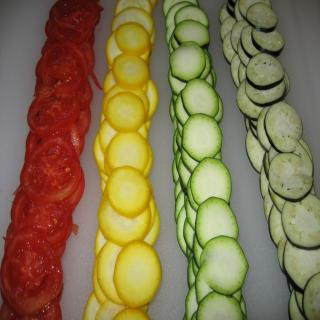Lemon: (82, 0, 156, 320)
